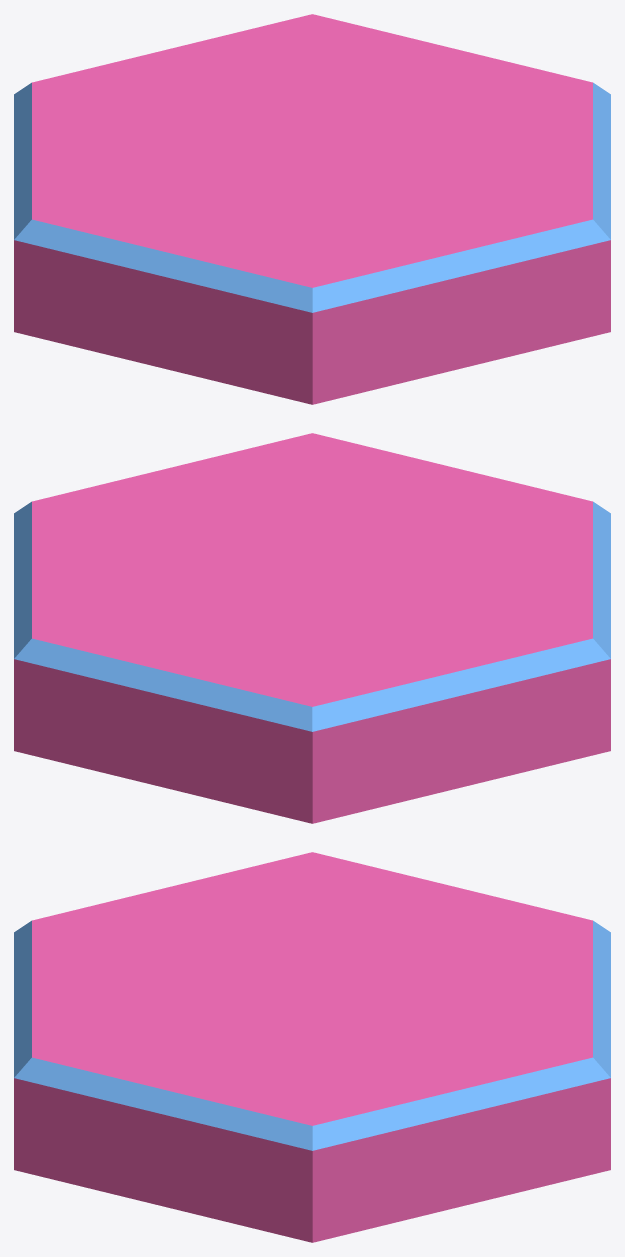
The model's file is Hexagon3D.fbx.
3 views of the same model, one above another, from view 1: azimuth 30°, elevation 25°; view 2: azimuth 150°, elevation 25°; view 3: azimuth 270°, elevation 25° (orthographic).
Parts seen in each view (by area): view 1: Chamfer1.002; view 2: Chamfer1.002; view 3: Chamfer1.002.
Boxes of the visible parts, bbox=[...] form: Chamfer1.002: bbox=[14, 14, 610, 404]; Chamfer1.002: bbox=[14, 433, 610, 823]; Chamfer1.002: bbox=[14, 852, 610, 1242].
Size of the model in its own units: 577 by 500 by 100.
